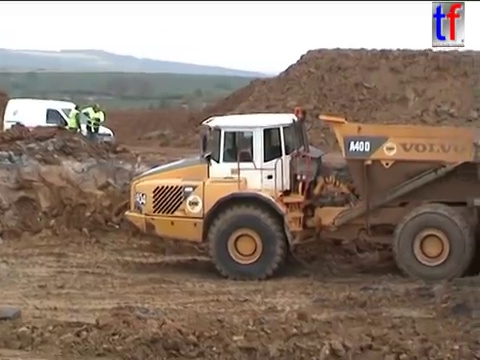truck: (121, 102, 480, 286)
worker: (81, 101, 106, 151), (66, 102, 84, 149)
